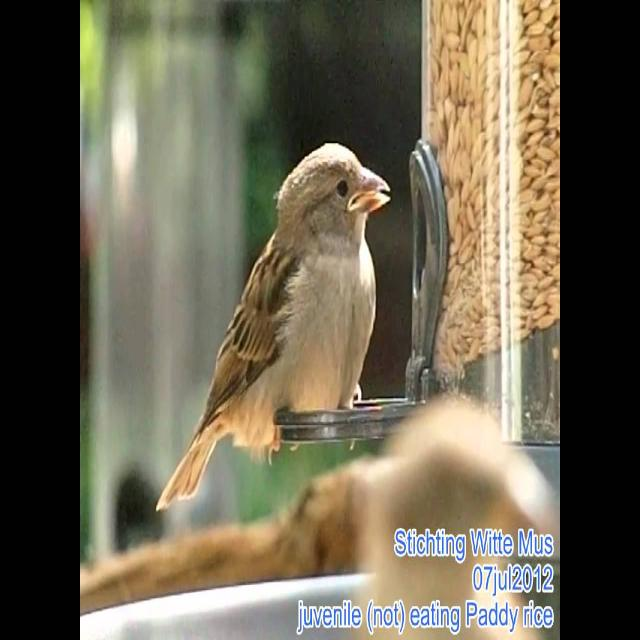bird: (161, 118, 389, 512)
